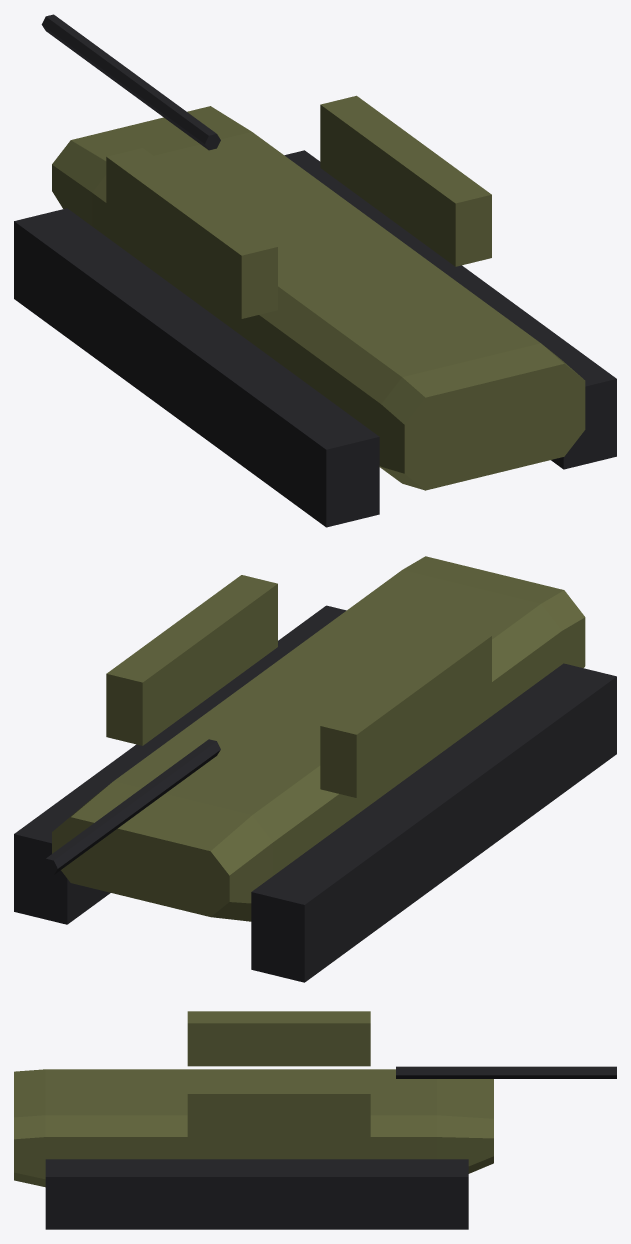
The model's file is army_tank_lod1.glb.
3 renders of one model, top to bottom at view 1: azimuth 30°, elevation 25°; view 2: azimuth 150°, elevation 25°; view 3: azimuth 270°, elevation 25°, orthographic. The views are drawn at different scales.
Visible parts, largest first — view 1: army_tank_lod1; view 2: army_tank_lod1; view 3: army_tank_lod1.
Part boxes in pixels (x1,y1,x2,y2): army_tank_lod1: (14,14,616,527); army_tank_lod1: (14,556,616,982); army_tank_lod1: (14,1011,616,1229).
Size of what is drawn, in the model's own units: 3.6 by 2.25 by 9.55.
2 materials, 2 textured.
